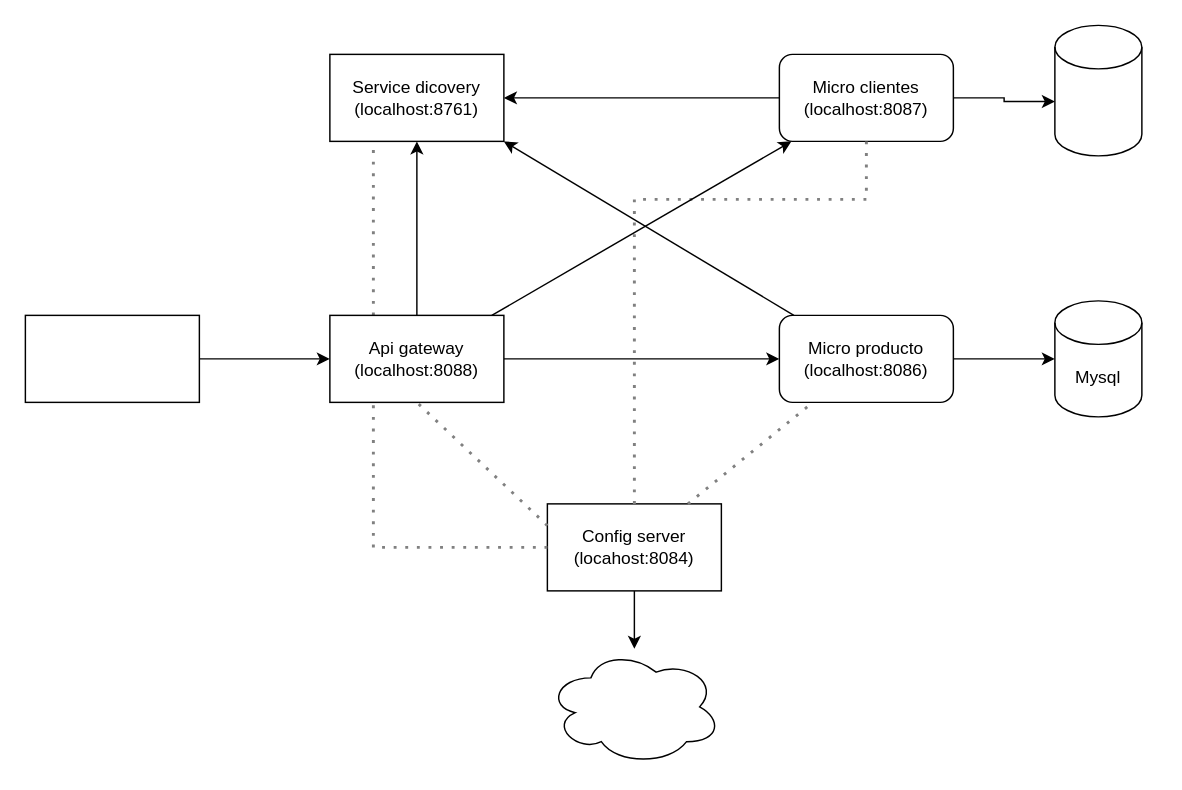
This 1182x790 diagram has some shape labels left out. The centre of each missing label's shape, as x and y in pixels:
"Cliente" belongs at (111,358).
"GIT" belongs at (633,706).
"Mongo locahost:27017" belongs at (1097,90).
